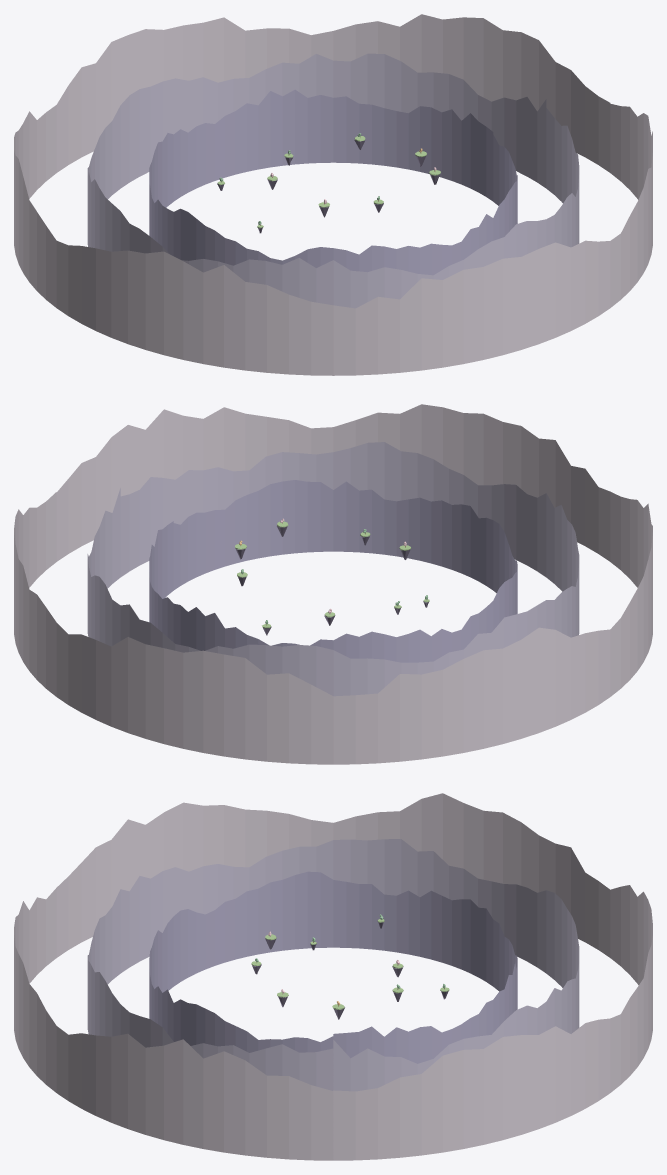
The model's file is backdrop.glb.
3 renders of one model, top to bottom at view 1: azimuth 30°, elevation 25°; view 2: azimuth 150°, elevation 25°; view 3: azimuth 270°, elevation 25°, orthographic.
Parts seen in each view (by area): view 1: Ridge3, Ridge2, Ridge1; view 2: Ridge3, Ridge2, Ridge1; view 3: Ridge3, Ridge2, Ridge1.
Boxes of the visible parts, x1,y1,x2,y2 form: Ridge3: [14, 14, 652, 375]; Ridge2: [87, 53, 579, 308]; Ridge1: [149, 89, 517, 275]; Ridge3: [14, 404, 652, 764]; Ridge2: [87, 442, 579, 696]; Ridge1: [149, 480, 517, 662]; Ridge3: [14, 793, 652, 1160]; Ridge2: [87, 839, 579, 1091]; Ridge1: [149, 871, 517, 1063].
Size of the model in its own units: 520 by 94.92 by 520.
